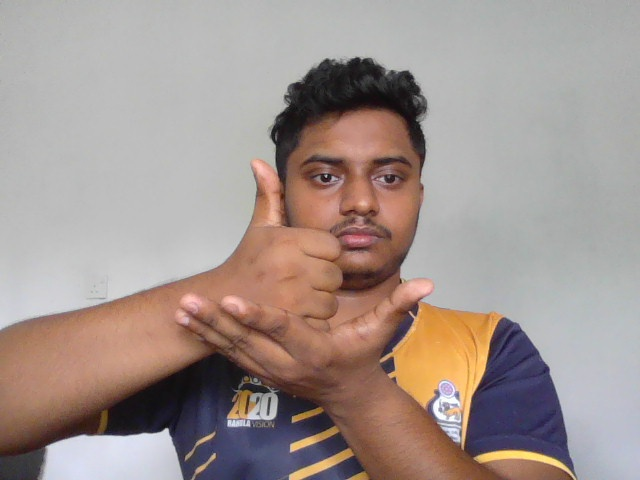Help: (171, 155, 435, 397)
